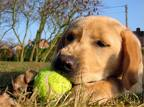tennis ball: (33, 69, 72, 99)
